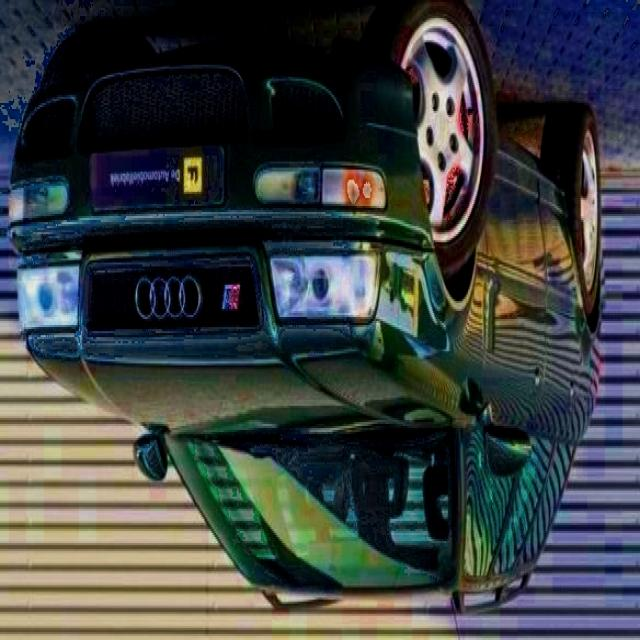green: (8, 0, 604, 620)
